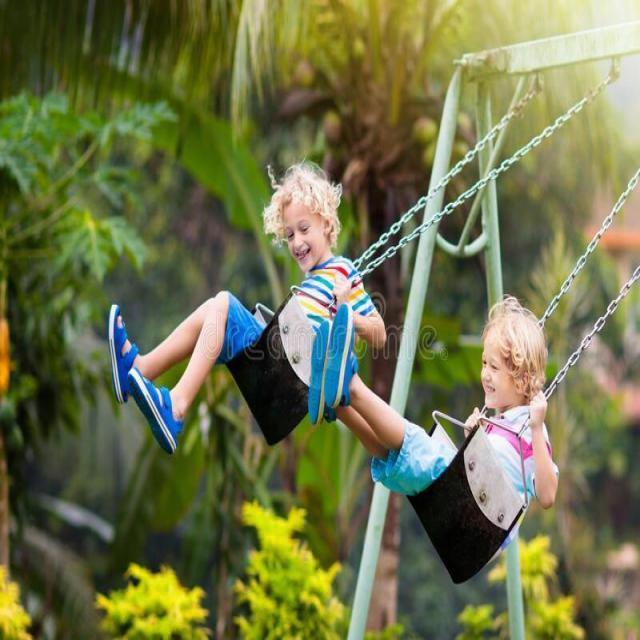child: (109, 159, 387, 451), (305, 281, 567, 509)
